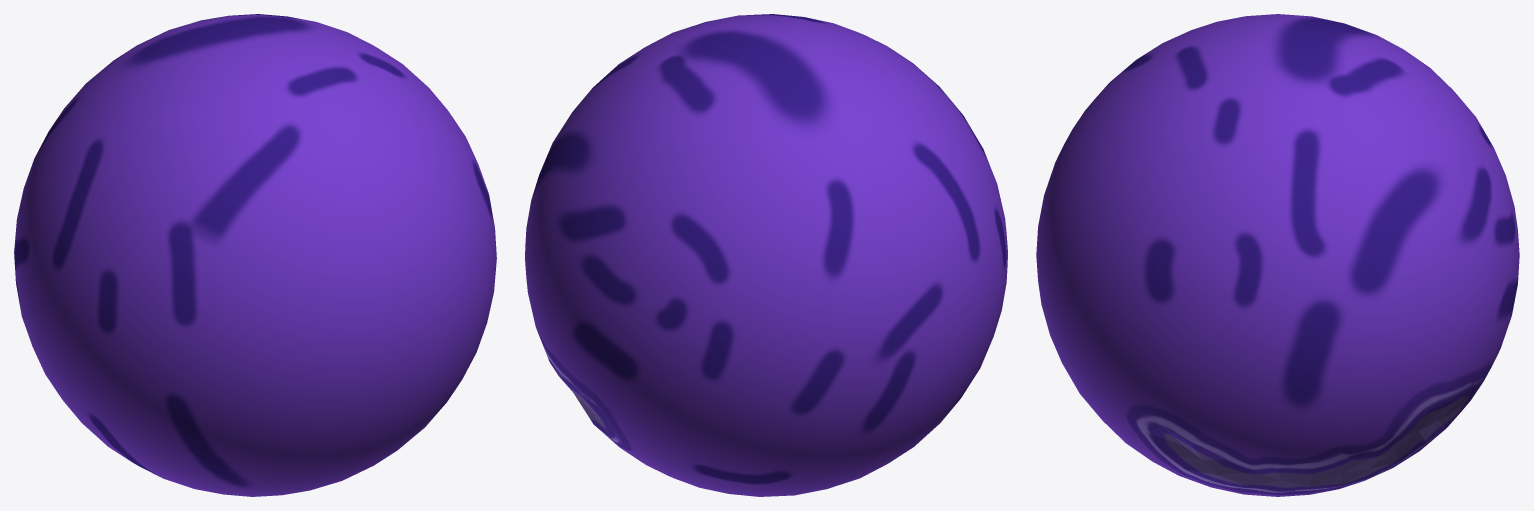
Rendered from Orb 1.fbx.
The picture shows the model from 3 angles, left to right: view 1: azimuth 30°, elevation 25°; view 2: azimuth 150°, elevation 25°; view 3: azimuth 270°, elevation 25°; orthographic projection.
Visible parts, largest first — view 1: Icosphere; view 2: Icosphere; view 3: Icosphere.
Boxes of the visible parts, x1,y1,x2,y2 form: Icosphere: (14, 14, 496, 496); Icosphere: (525, 14, 1007, 496); Icosphere: (1036, 14, 1519, 496).
Bounding box in the file's own units: 10000 × 10000 × 10000.
